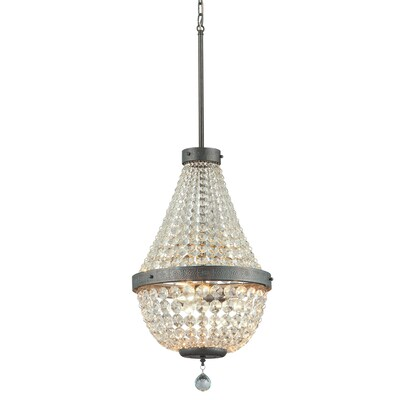chandelier: (121, 2, 289, 394)
